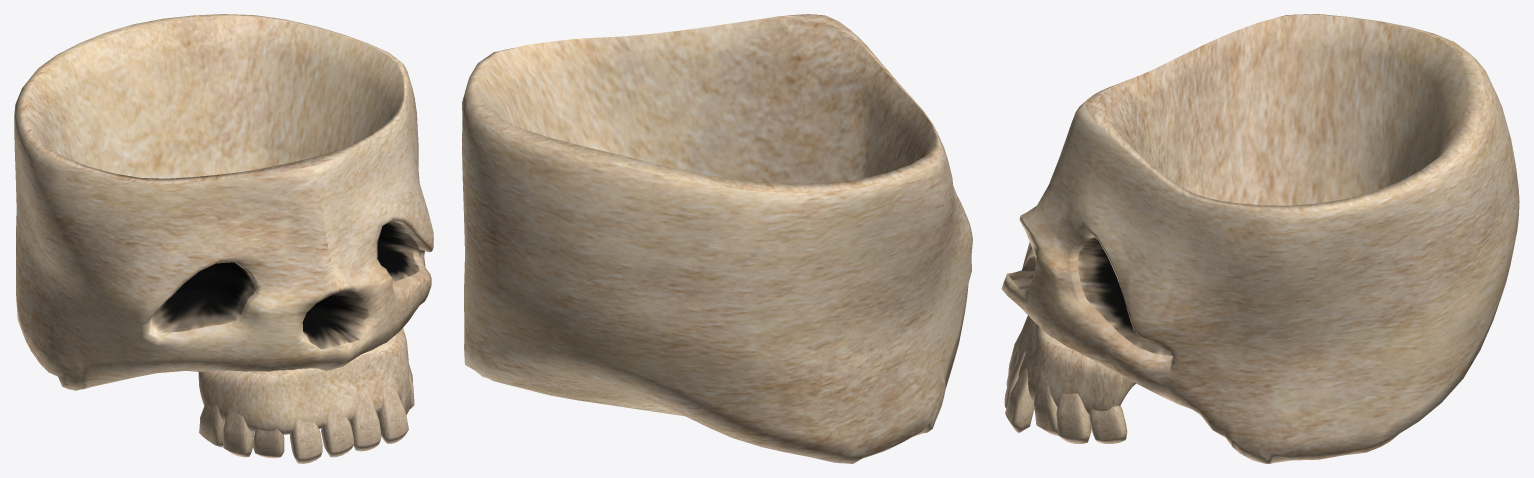
The model's file is skeleton bowl.fbx.
3 views of the same model, side by side, from view 1: azimuth 30°, elevation 25°; view 2: azimuth 150°, elevation 25°; view 3: azimuth 270°, elevation 25° (orthographic). The views are drawn at different scales.
Parts seen in each view (by area): view 1: skeleton, polySurface2, polySurface5, polySurface4, polySurface3, polySurface7, polySurface11, polySurface1, polySurface6; view 2: skeleton; view 3: skeleton, polySurface2, polySurface9, polySurface8, polySurface4, polySurface10.
Boxes of the visible parts, x1=… form: skeleton: x1=14, y1=14, x2=433, y2=390; polySurface2: x1=198, y1=328, x2=408, y2=434; polySurface5: x1=350, y1=390, x2=380, y2=451; polySurface4: x1=377, y1=386, x2=408, y2=443; polySurface3: x1=290, y1=418, x2=322, y2=463; polySurface7: x1=223, y1=408, x2=253, y2=457; polySurface11: x1=321, y1=401, x2=354, y2=457; polySurface1: x1=253, y1=428, x2=284, y2=458; polySurface6: x1=199, y1=404, x2=224, y2=447; skeleton: x1=462, y1=14, x2=972, y2=463; skeleton: x1=1001, y1=14, x2=1519, y2=463; polySurface2: x1=1016, y1=315, x2=1135, y2=414; polySurface9: x1=1056, y1=393, x2=1091, y2=443; polySurface8: x1=1089, y1=405, x2=1127, y2=443; polySurface4: x1=1005, y1=368, x2=1034, y2=432; polySurface10: x1=1033, y1=372, x2=1058, y2=435.
Size of the model in its own units: 5.19 by 3.7 by 5.6.
Materials: 1 (1 with a texture image).
